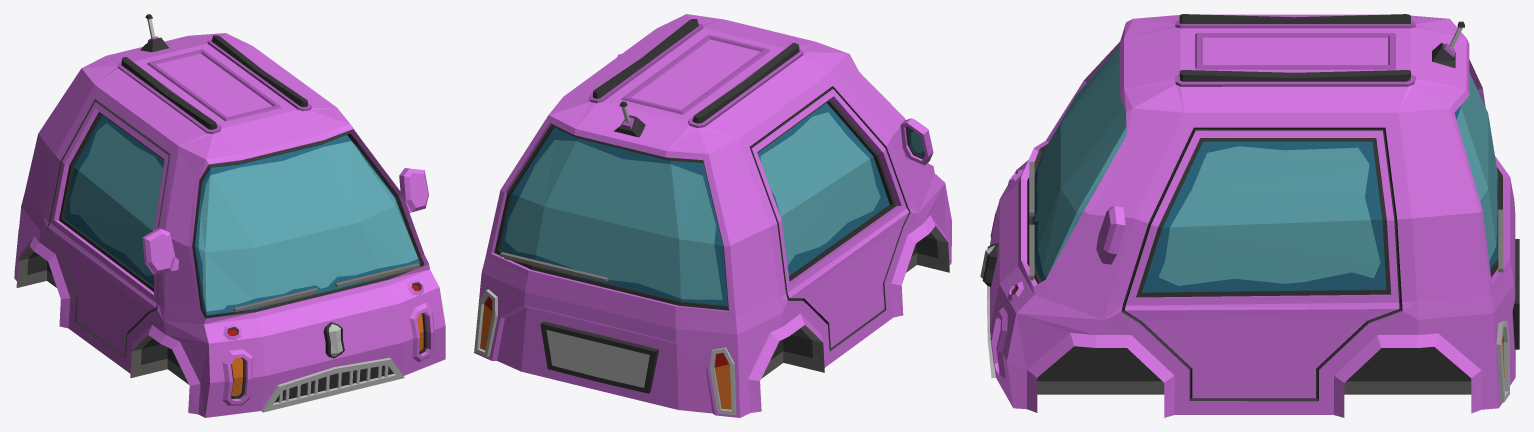
File: Car_C_03.FBX
3 renders of one model, left to right at view 1: azimuth 30°, elevation 25°; view 2: azimuth 150°, elevation 25°; view 3: azimuth 270°, elevation 25°, orthographic. The views are drawn at different scales.
Parts seen in each view (by area): view 1: Car_C_03; view 2: Car_C_03; view 3: Car_C_03.
Boxes of the visible parts, box(x1,y1,x2,y2) form: Car_C_03: box(14, 14, 445, 417); Car_C_03: box(474, 14, 951, 417); Car_C_03: box(980, 14, 1519, 417).
Bounding box in the file's own units: 2.79 × 2.31 × 3.63.
